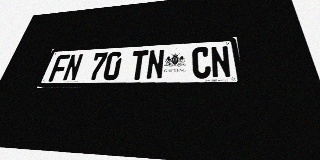0: (102, 51, 123, 81)
7: (87, 52, 108, 81)
C: (192, 47, 211, 79)
F: (48, 54, 70, 82)
N: (210, 46, 232, 78), (62, 54, 84, 81), (146, 49, 165, 80)
T: (129, 50, 149, 80)
